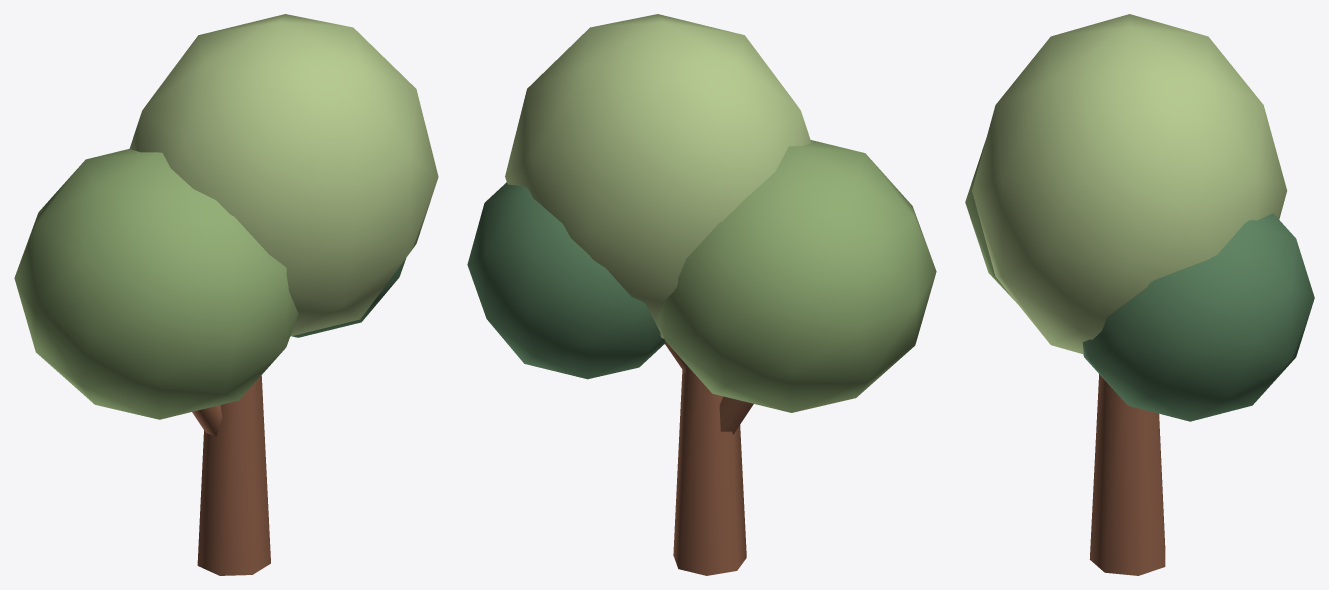
File: oak.glb
The picture shows the model from 3 angles, left to right: view 1: azimuth 30°, elevation 25°; view 2: azimuth 150°, elevation 25°; view 3: azimuth 270°, elevation 25°; orthographic projection. The views are drawn at different scales.
Visible parts, largest first — view 1: surface_#b0c58a, surface_#8da970, surface_#936047, surface_#577d5b; view 2: surface_#b0c58a, surface_#8da970, surface_#577d5b, surface_#936047; view 3: surface_#b0c58a, surface_#577d5b, surface_#936047, surface_#8da970.
Boxes of the visible parts, x1,y1,x2,y2 form: surface_#b0c58a: (129,14,438,336); surface_#8da970: (14,149,298,419); surface_#936047: (192,375,270,575); surface_#577d5b: (292,258,406,337); surface_#b0c58a: (505,14,811,338); surface_#8da970: (657,140,936,412); surface_#577d5b: (467,182,666,379); surface_#936047: (665,342,753,575); surface_#b0c58a: (972,14,1287,354); surface_#577d5b: (1082,213,1314,421); surface_#936047: (1089,374,1165,575); surface_#8da970: (965,140,1017,303).
Size of the model in its own units: 2.82 by 3.54 by 2.02.
